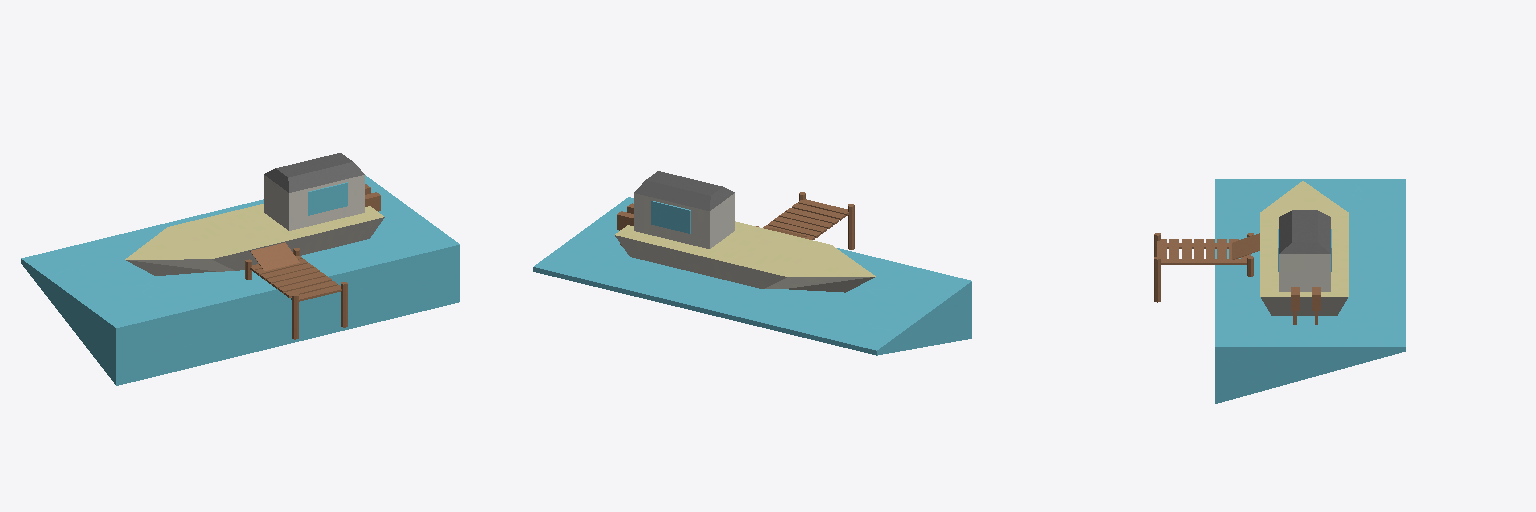
3 views of the same model, side by side, from view 1: azimuth 30°, elevation 25°; view 2: azimuth 150°, elevation 25°; view 3: azimuth 270°, elevation 25° (orthographic).
Visible parts, largest first — view 1: Water, Hull, brygga, window; view 2: Water, Hull, brygga, Box005; view 3: Water, Hull, brygga.
Boxes of the visible parts, x1=… form: Water: x1=21, y1=175, x2=459, y2=385; Hull: x1=125, y1=153, x2=384, y2=275; brygga: x1=245, y1=242, x2=347, y2=339; window: x1=308, y1=182, x2=347, y2=215; Water: x1=533, y1=197, x2=971, y2=355; Hull: x1=615, y1=171, x2=875, y2=292; brygga: x1=756, y1=192, x2=854, y2=249; Box005: x1=651, y1=201, x2=690, y2=233; Water: x1=1215, y1=179, x2=1405, y2=403; Hull: x1=1260, y1=181, x2=1348, y2=315; brygga: x1=1154, y1=233, x2=1259, y2=302.
Bounding box in the file's own units: 39.12 × 14.01 × 24.83.
Materials: 1 (1 with a texture image).